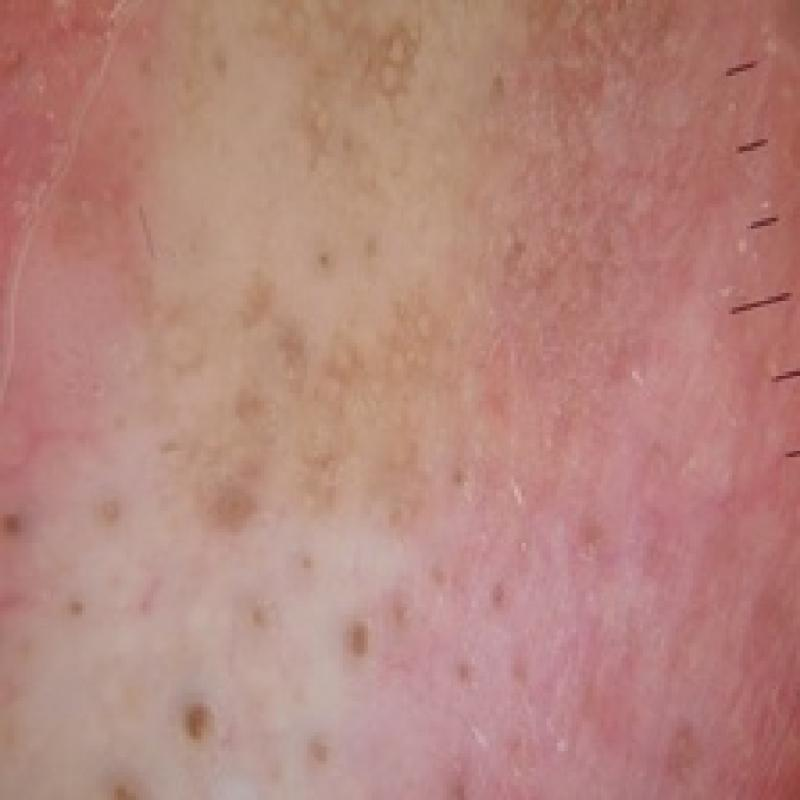malignant: (109, 244, 528, 602)
